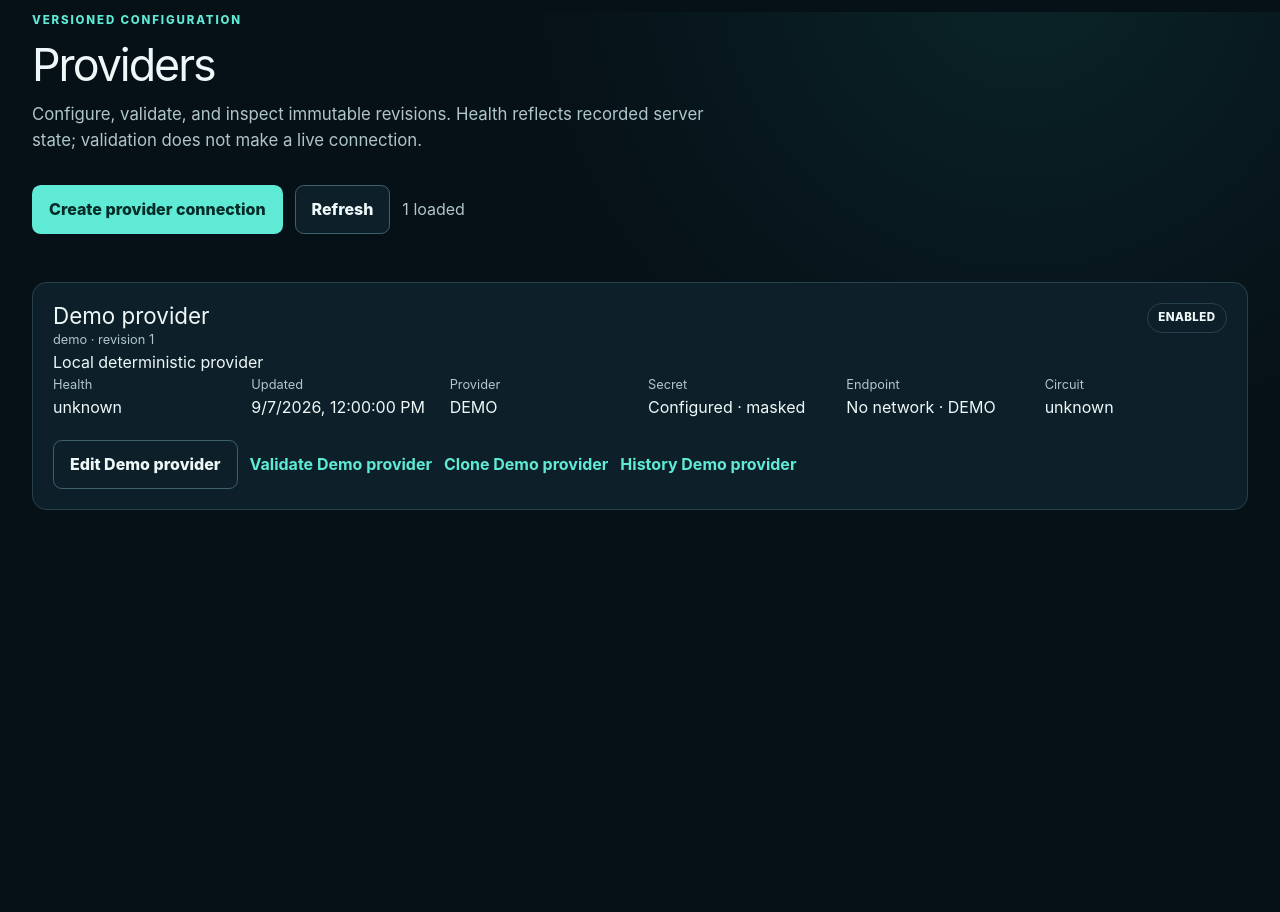
Test case: M3 registry editors › shows real validation and historical revision details without live probe claims
Click the button "Validate Demo provider" at point(341, 464), box [250,442,432,486]
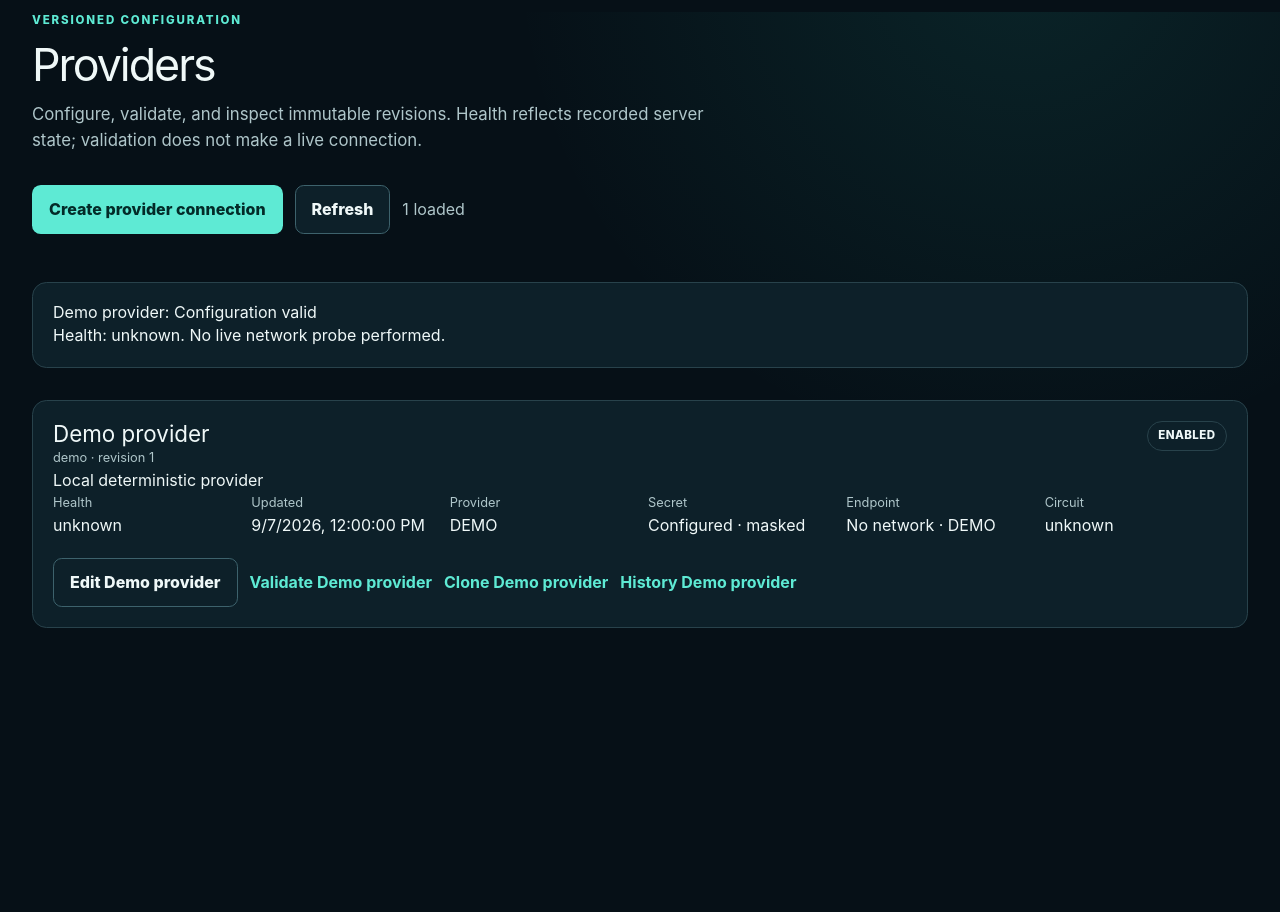
Now the message named "Validation result" shows "No live network probe", box [189,325,445,345]
Click the button "History Demo provider" at point(708, 582), box [620,560,796,604]
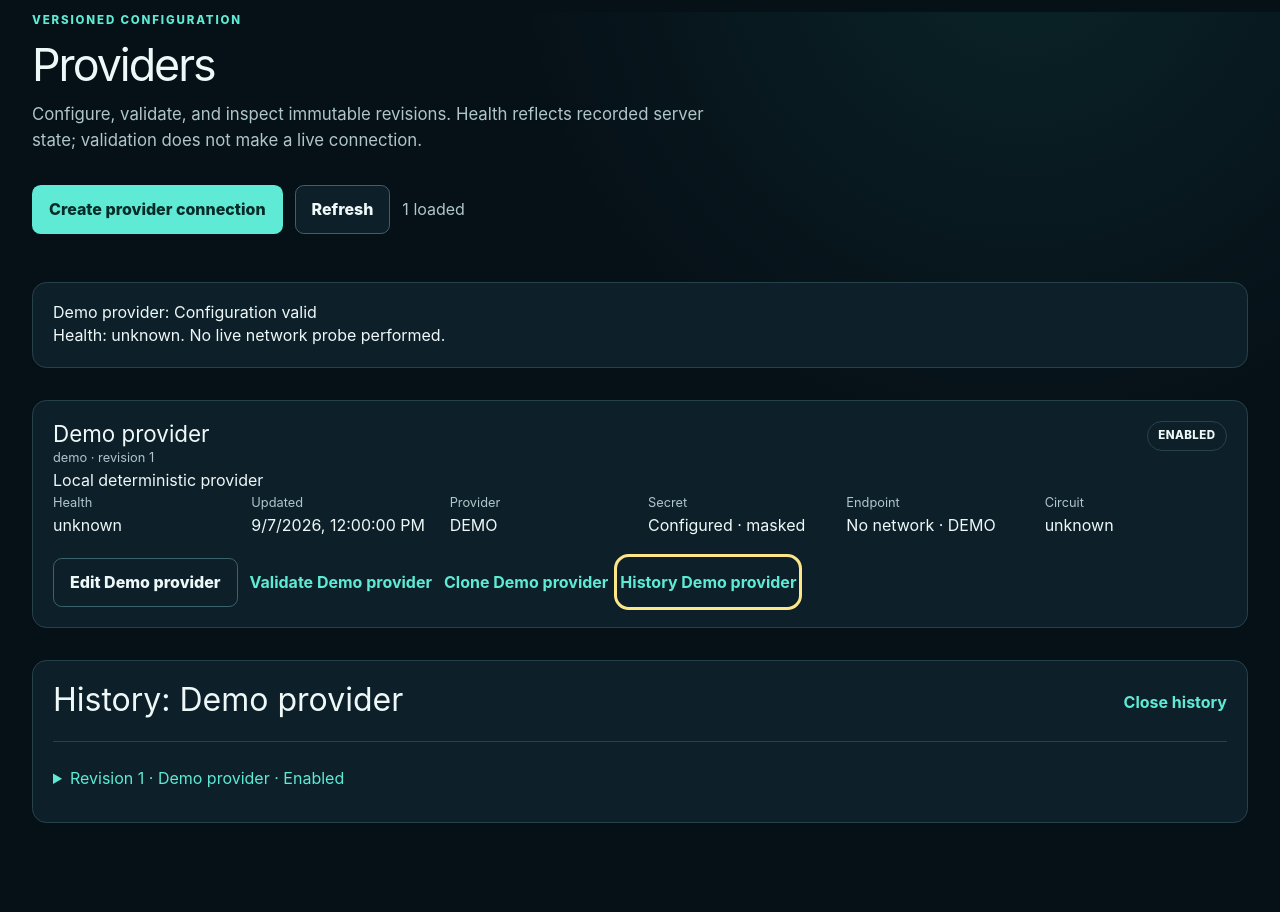
Expected: the text "Configured · masked" is shown, [648,513,830,538]
Now the heading "Revision 1 · Demo provider · Enabled" is shown, box [70,768,344,788]
